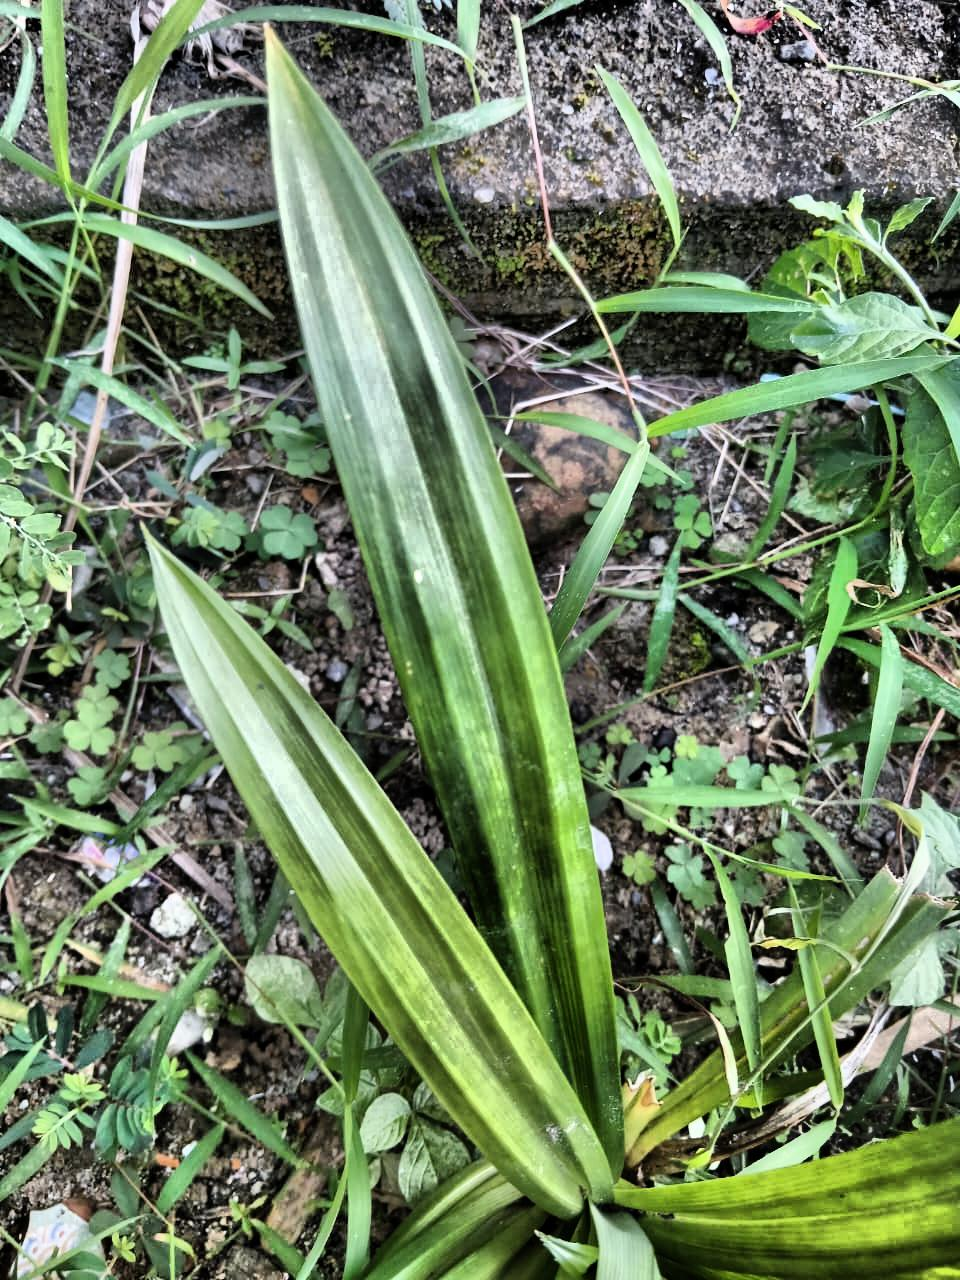daun pandan: (144, 28, 959, 1279)
